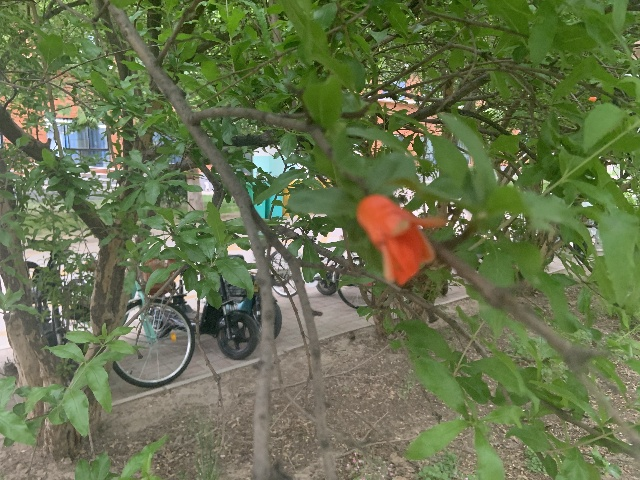flower: (355, 193, 446, 286)
